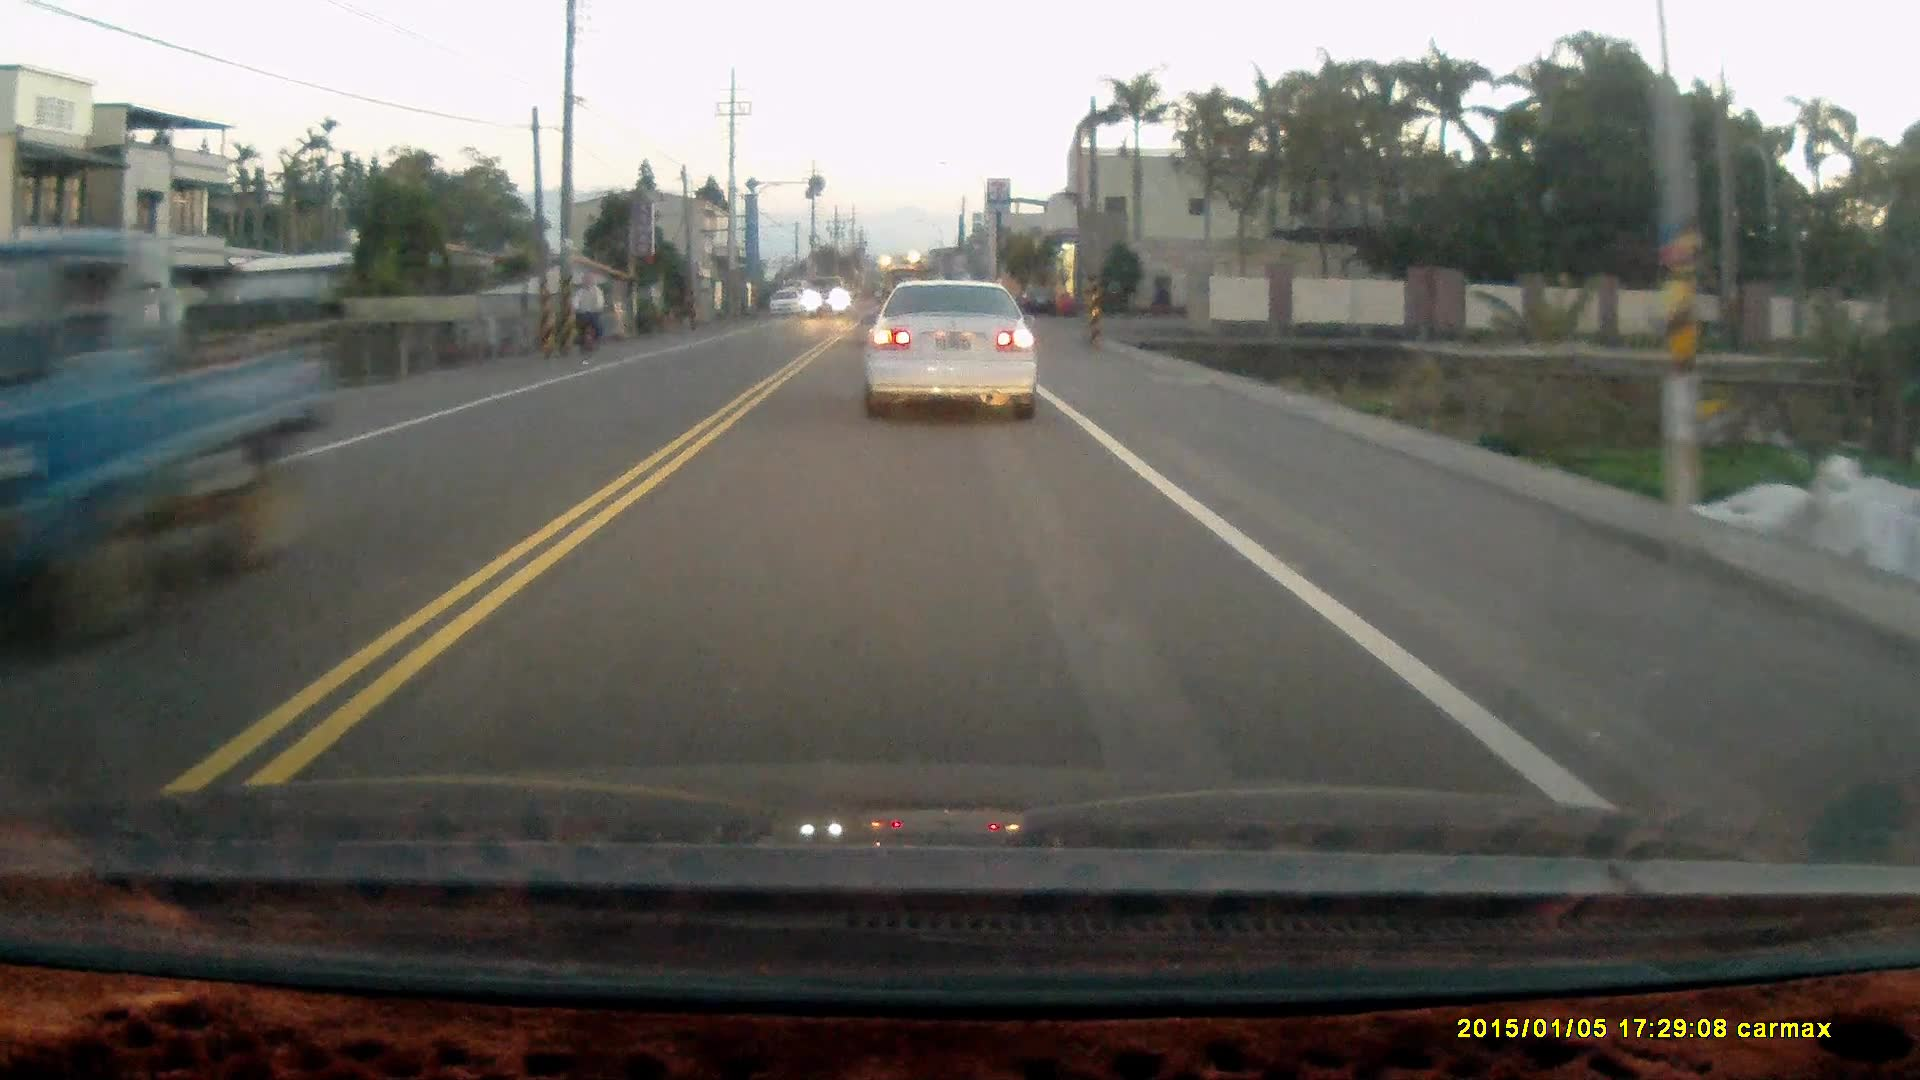rider: (566, 270, 604, 368)
vehicle: (1, 227, 332, 678), (859, 276, 1036, 421), (798, 273, 850, 319), (1019, 276, 1062, 313), (770, 289, 804, 317)
